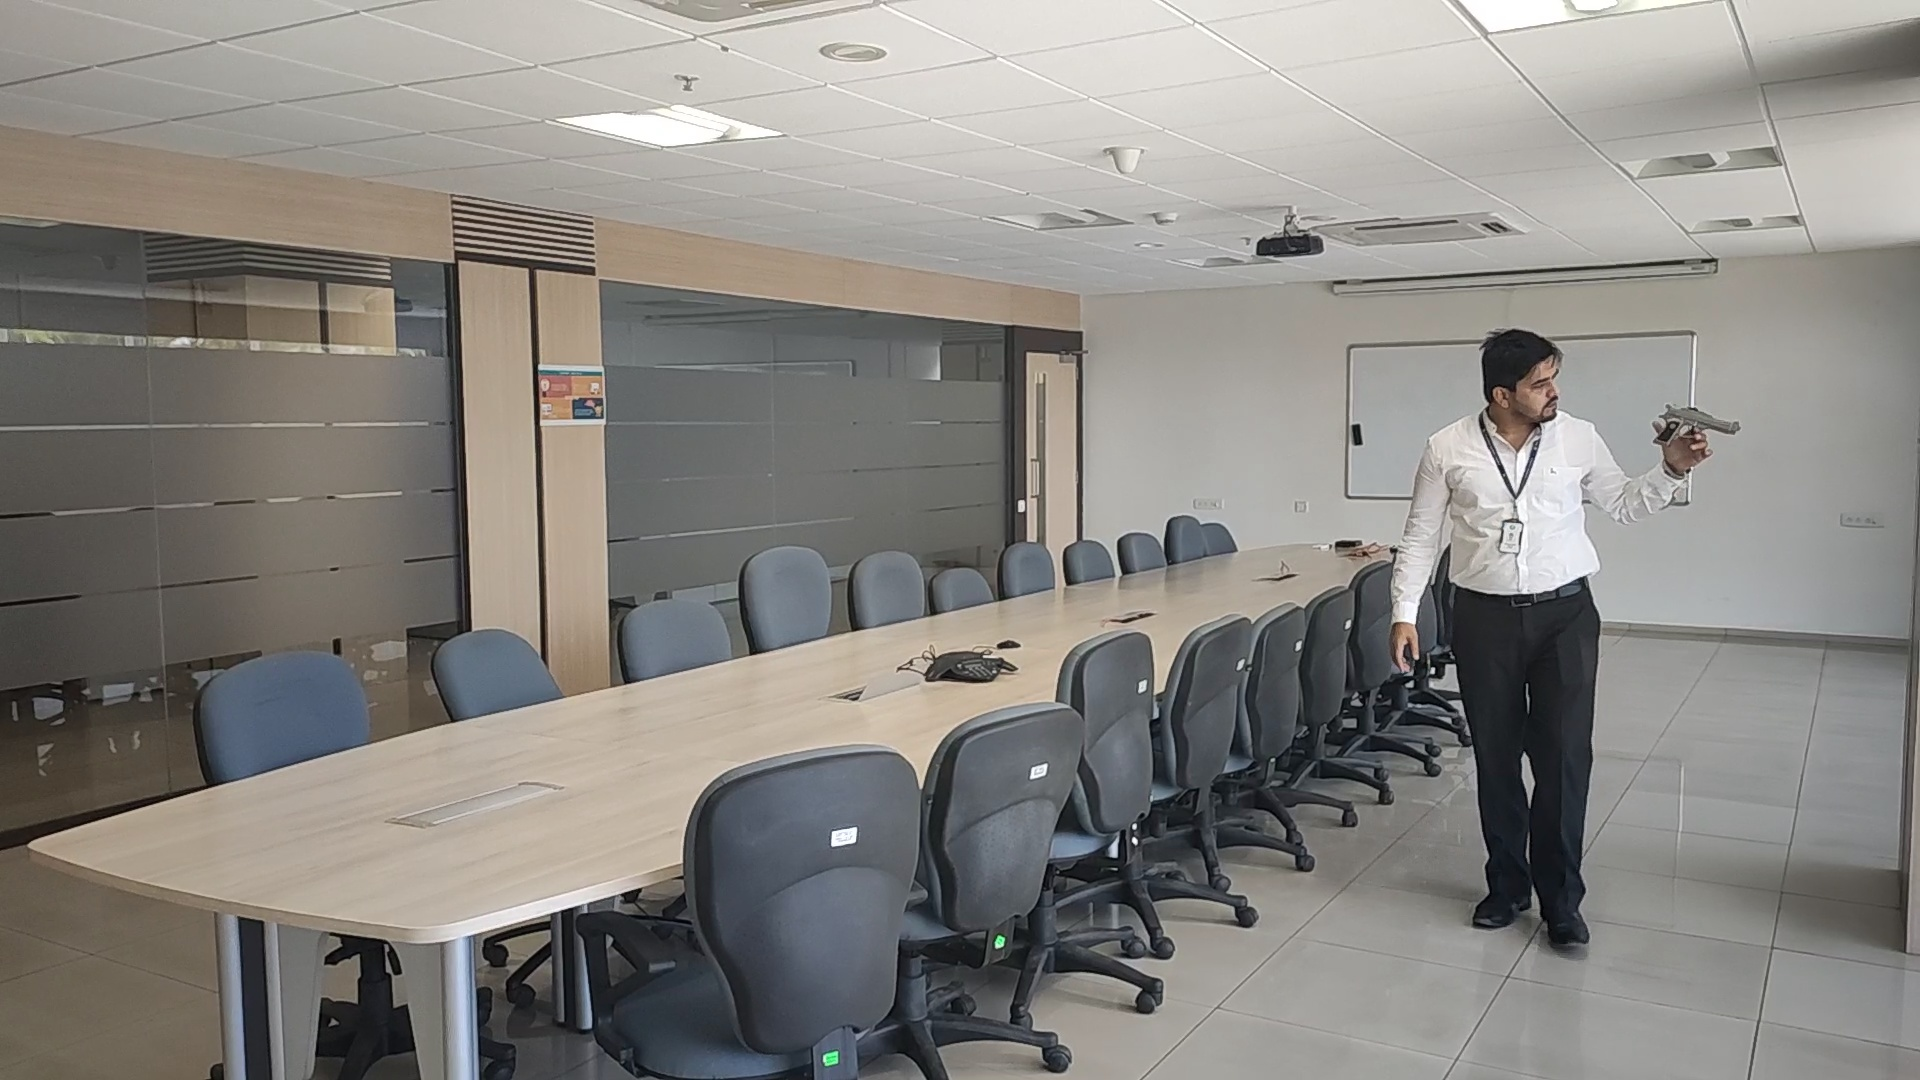gun: (1658, 402, 1742, 436)
